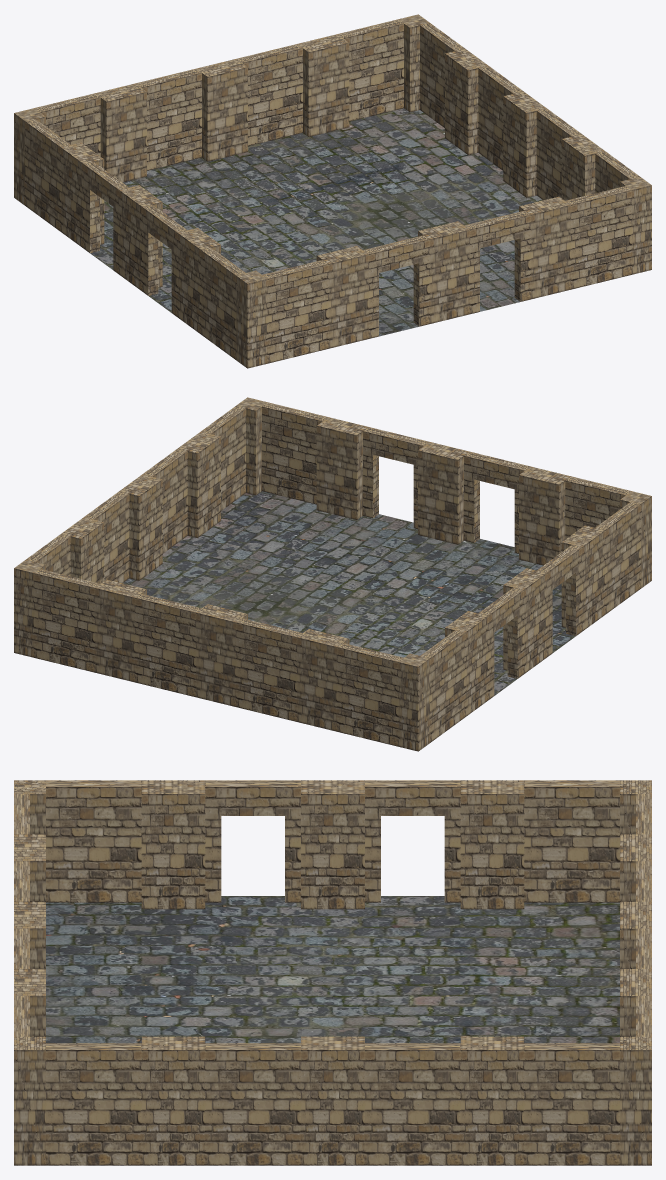
Rendered from twoWayConnector.fbx.
The picture shows the model from 3 angles, top to bottom: view 1: azimuth 30°, elevation 25°; view 2: azimuth 150°, elevation 25°; view 3: azimuth 270°, elevation 25°; orthographic projection. The views are drawn at different scales.
Parts seen in each view (by area): view 1: Plane, Cube_17, Cube_9_2, Cube_19, Cube_11, Cube_8_2, Cube_10_2, Cube_23, Cube_21, Cube_18, Cube_7_2, Cube_22 (+23 smaller); view 2: Plane, Cube_16_2, Cube_11, Cube_8_2, Cube_19, Cube_9_2, Cube_7_2, Cube_22, Cube_18, Cube_21, Cube_10_2, Cube_23 (+23 smaller); view 3: Plane, Cube_6, Cube_1, Cube_15_2, Cube_14_2, Cube_4_2, Cube_18_2, Cube_13_2, Cube_12_2, Cube_3_2, Cube_5_2, Cube_2_2 (+21 smaller).
Part boxes in pixels (left/top/right/bottom): Plane: left=90, top=108, right=542, bottom=336; Cube_17: left=262, top=260, right=328, bottom=363; Cube_9_2: left=565, top=186, right=631, bottom=289; Cube_19: left=237, top=44, right=302, bottom=146; Cube_11: left=135, top=68, right=201, bottom=170; Cube_8_2: left=338, top=19, right=403, bottom=121; Cube_10_2: left=297, top=34, right=349, bottom=136; Cube_23: left=196, top=59, right=247, bottom=161; Cube_21: left=95, top=83, right=146, bottom=182; Cube_18: left=316, top=246, right=368, bottom=348; Cube_7_2: left=519, top=196, right=570, bottom=299; Cube_22: left=418, top=221, right=469, bottom=323; Plane: left=123, top=491, right=575, bottom=695; Cube_16_2: left=337, top=643, right=403, bottom=746; Cube_11: left=236, top=618, right=302, bottom=721; Cube_8_2: left=34, top=569, right=100, bottom=672; Cube_19: left=135, top=593, right=201, bottom=697; Cube_9_2: left=262, top=402, right=327, bottom=504; Cube_7_2: left=316, top=417, right=368, bottom=519; Cube_22: left=418, top=442, right=469, bottom=544; Cube_18: left=519, top=466, right=570, bottom=565; Cube_21: left=297, top=629, right=349, bottom=731; Cube_10_2: left=95, top=579, right=146, bottom=682; Cube_23: left=196, top=604, right=247, bottom=706; Plane: left=46, top=896, right=619, bottom=1043; Cube_6: left=205, top=1043, right=300, bottom=1165; Cube_1: left=365, top=1043, right=460, bottom=1165; Cube_15_2: left=524, top=1043, right=619, bottom=1165; Cube_14_2: left=524, top=780, right=619, bottom=902; Cube_4_2: left=46, top=1043, right=141, bottom=1165; Cube_18_2: left=46, top=780, right=141, bottom=902; Cube_13_2: left=460, top=1036, right=524, bottom=1165; Cube_12_2: left=460, top=780, right=524, bottom=909; Cube_3_2: left=141, top=1036, right=205, bottom=1165; Cube_5_2: left=141, top=780, right=205, bottom=909; Cube_2_2: left=301, top=1036, right=364, bottom=1165.
Size of the model in its own units: 40 by 8 by 40.
2 materials, 2 textured.
